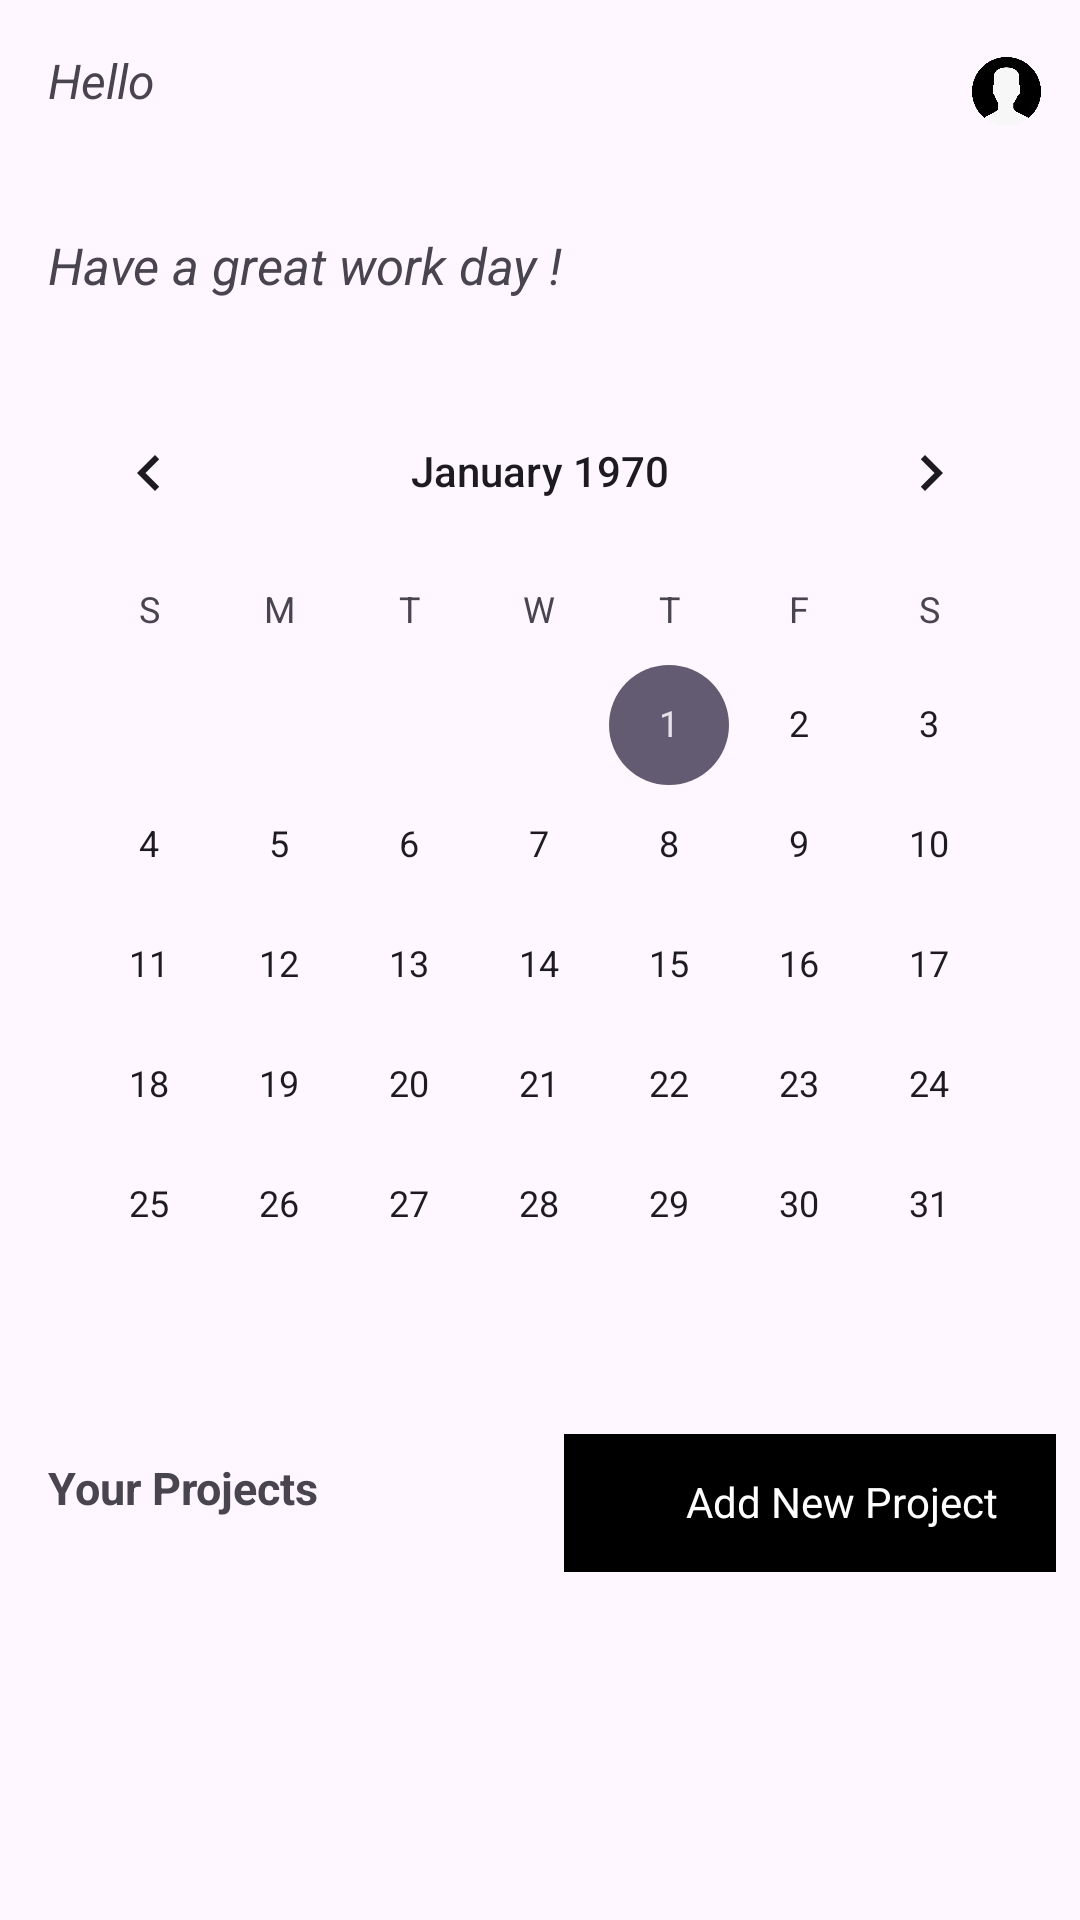

Screen size 1080px×1920px. Icon name, then its center in pixels as [x,y]:
user: [1006,87]
